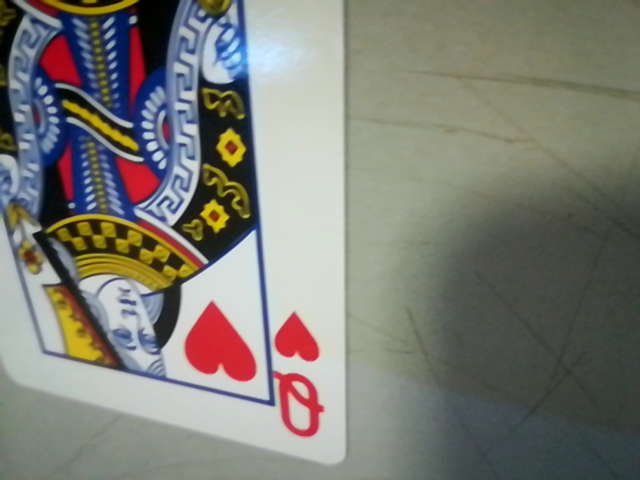hx q: (266, 304, 340, 450)
